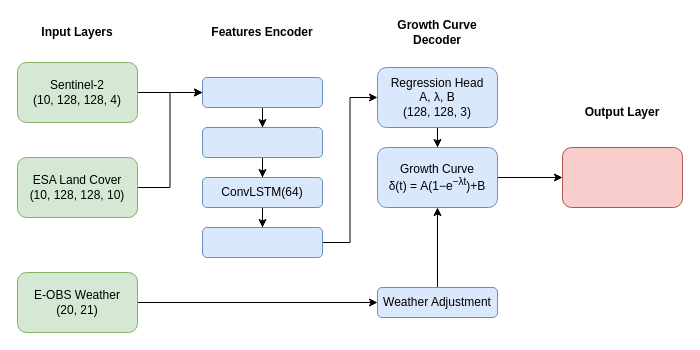
Image size: 700x350. Some labels were removed from this diagram. The shapes that lost their labels are listed below. From the top down, each one's centre as x and y in pixels, then its label:
At (262,92): "ConvLSTM(32)".
At (262,142): "ConvLSTM(48)".
At (622,177): "Output Delta (20, 128, 128, 4)".
At (262,242): "Latent Fusion".
